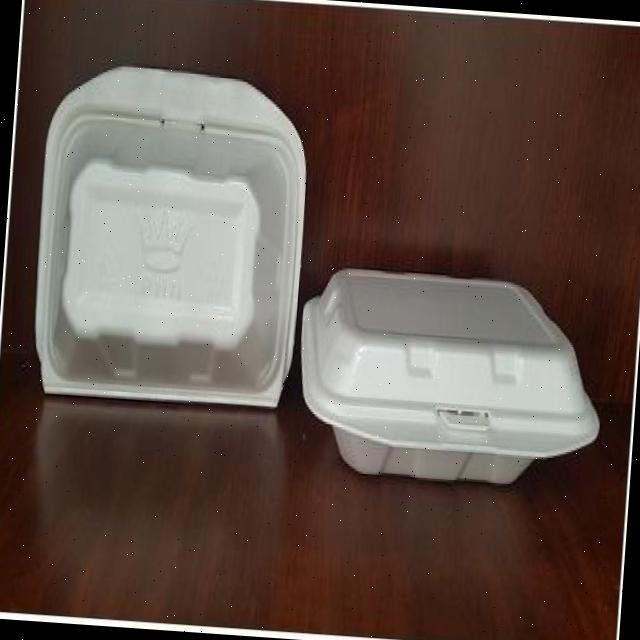styrofoam: (26, 57, 314, 410), (290, 261, 610, 494)
